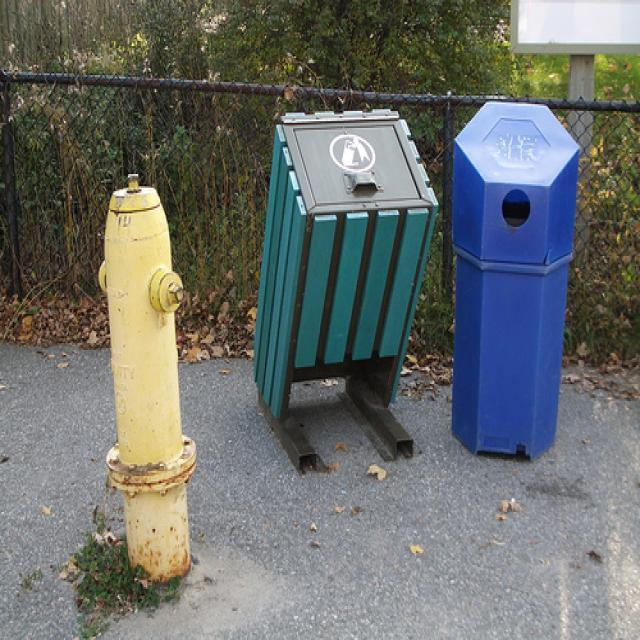fire_hydrant: (96, 174, 197, 586)
